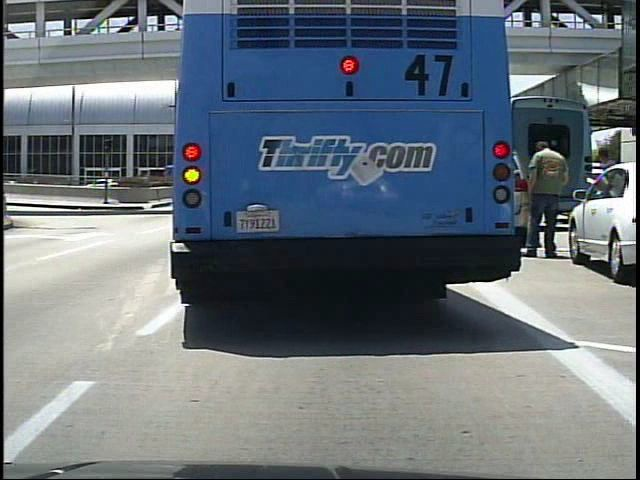person: (526, 137, 571, 262), (593, 146, 621, 247)
